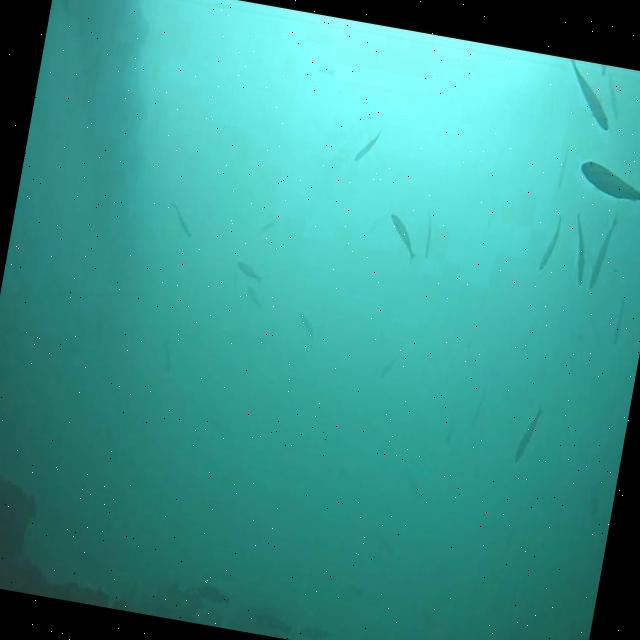fish: (574, 158, 640, 220), (560, 62, 618, 130), (588, 216, 616, 292), (564, 214, 592, 286), (513, 402, 543, 468), (384, 213, 420, 260), (540, 216, 562, 272), (166, 204, 198, 239), (354, 126, 381, 164), (603, 74, 624, 119), (234, 258, 264, 283), (612, 299, 626, 345), (554, 148, 568, 191), (422, 218, 434, 257), (379, 356, 396, 381), (244, 288, 264, 308), (314, 62, 338, 78), (297, 312, 315, 333), (263, 220, 277, 234)
